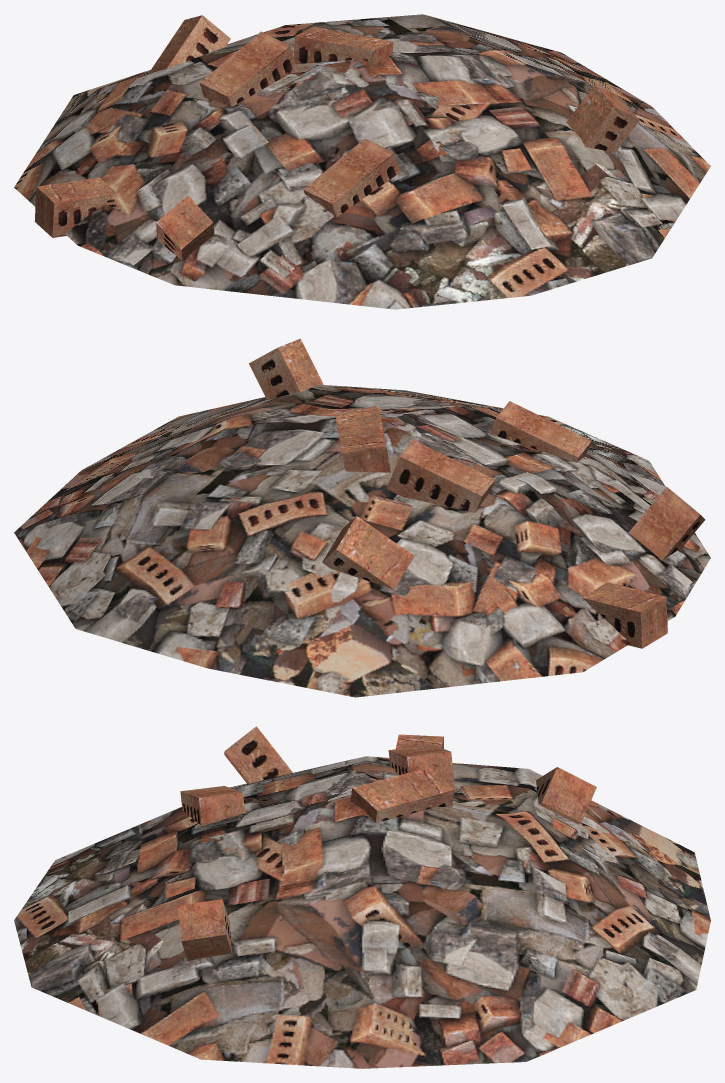
File: Debris2_2_LOD2.fbx
3 renders of one model, top to bottom at view 1: azimuth 30°, elevation 25°; view 2: azimuth 150°, elevation 25°; view 3: azimuth 270°, elevation 25°, orthographic. The views are drawn at different scales.
Parts seen in each view (by area): view 1: polySurface314; view 2: polySurface314; view 3: polySurface314.
Boxes of the visible parts, x1,y1,x2,y2 form: polySurface314: (14,14,710,309); polySurface314: (14,338,710,697); polySurface314: (14,726,710,1068).
Bounding box in the file's own units: 2.77 × 0.6784 × 2.72.
